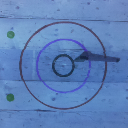Axe Tip: (73, 58, 85, 61)
